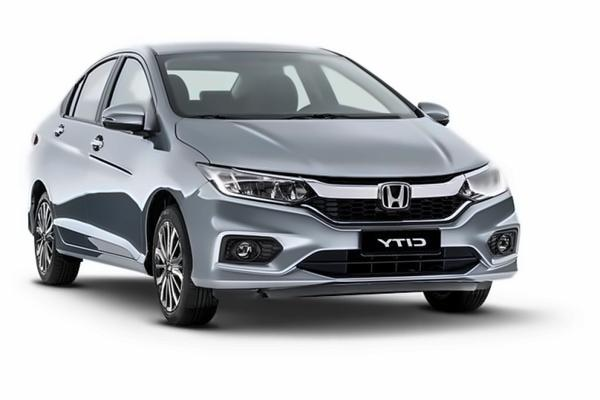Car hood: (173, 115, 489, 176), (84, 36, 159, 275)
Fender - -F-R-: (134, 113, 211, 266)
Front bumper: (179, 183, 521, 298)
Headlight - -L-: (457, 161, 512, 200)
Headlight - -R-: (191, 161, 317, 208)
Passenger-s door - -R-R-: (42, 41, 121, 274)
Side bumper - -R-: (48, 233, 155, 284)
Side mirror - -L-: (96, 106, 155, 141)
Side mirror - -R-: (416, 100, 453, 124)
